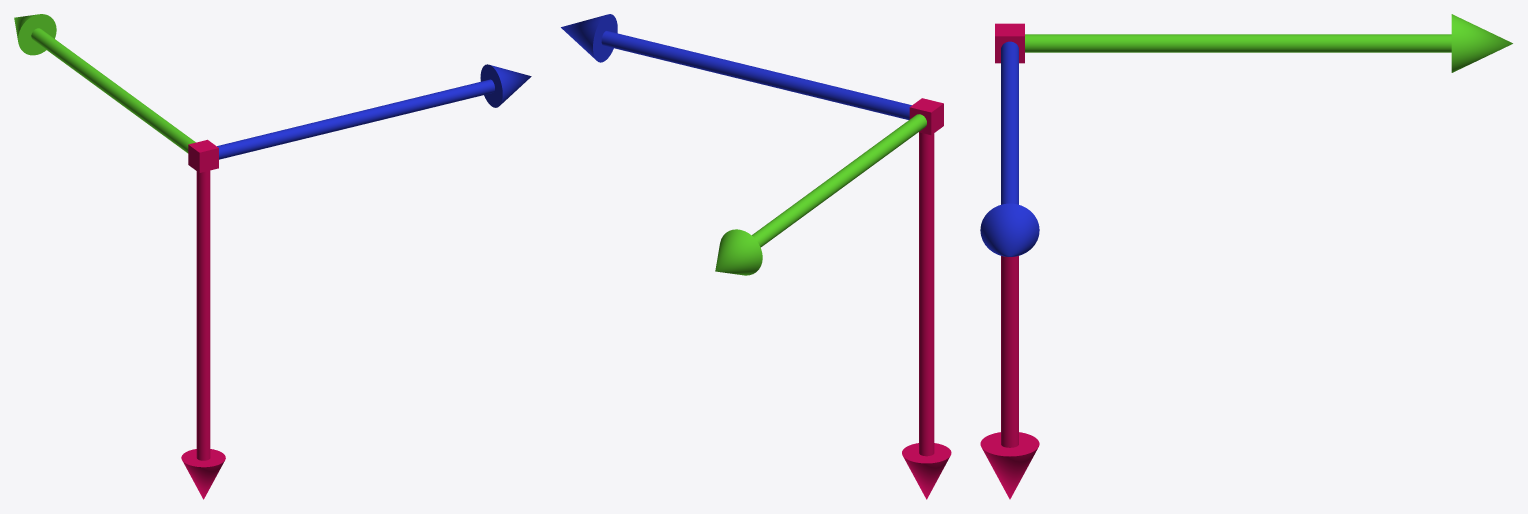
The model's file is gizmo.fbx.
3 renders of one model, left to right at view 1: azimuth 30°, elevation 25°; view 2: azimuth 150°, elevation 25°; view 3: azimuth 270°, elevation 25°, orthographic. The views are drawn at different scales.
Visible parts, largest first — view 1: Cube; view 2: Cube; view 3: Cube.
Boxes of the visible parts, x1,y1,x2,y2 form: Cube: (14,14,531,499); Cube: (561,14,951,499); Cube: (980,14,1512,499).
Bounding box in the file's own units: 106 × 106 × 106.
